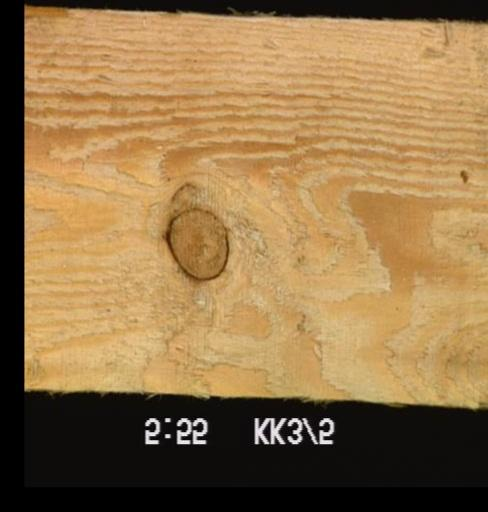dry_knot: (160, 207, 229, 283)
